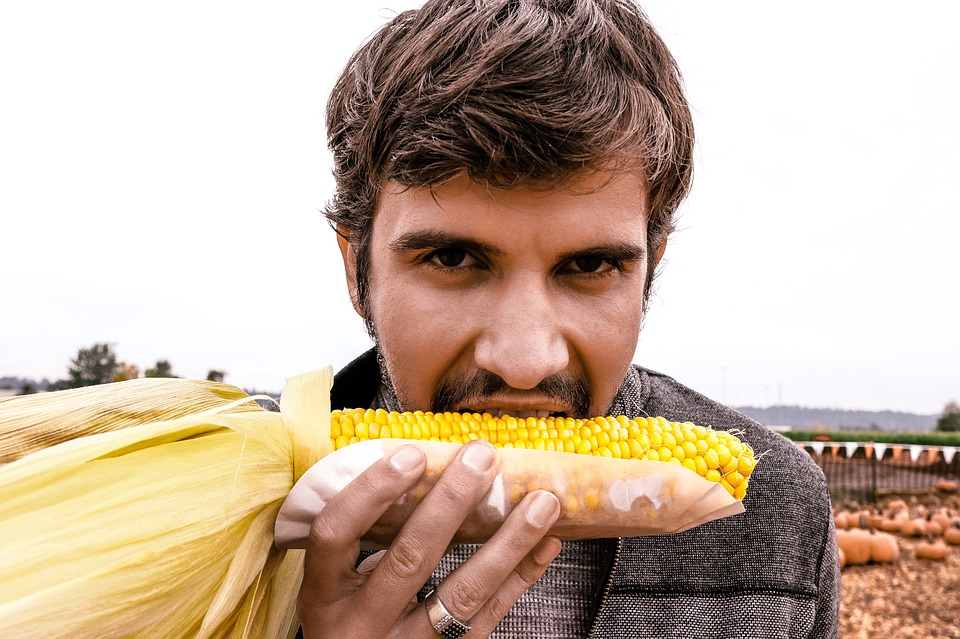eating: (235, 13, 809, 584)
